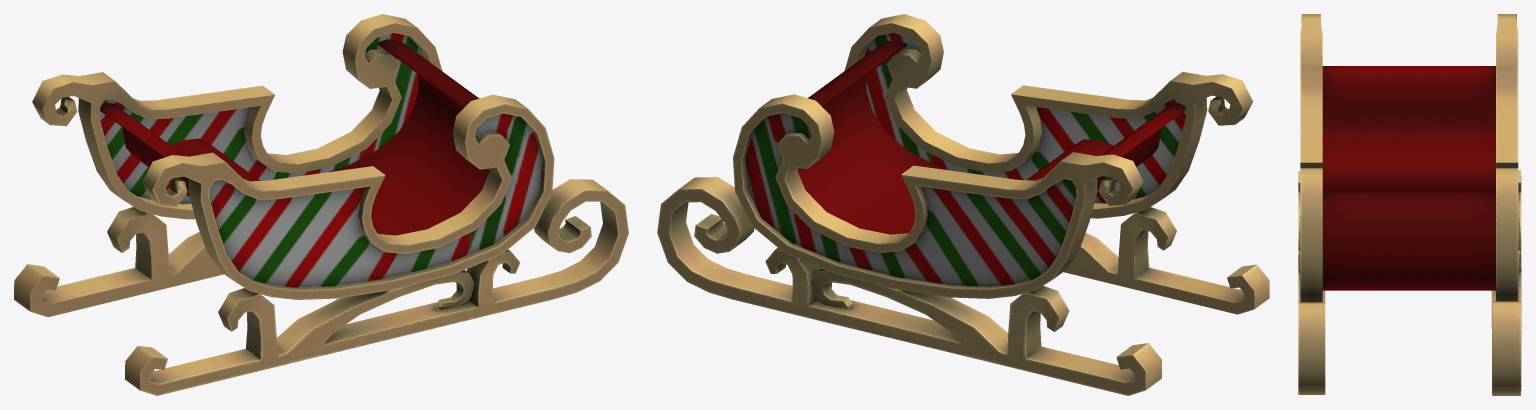
The model's file is Sleigh.gltf.
3 renders of one model, left to right at view 1: azimuth 30°, elevation 25°; view 2: azimuth 150°, elevation 25°; view 3: azimuth 270°, elevation 25°, orthographic. The views are drawn at different scales.
Parts seen in each view (by area): view 1: Sleigh; view 2: Sleigh; view 3: Sleigh.
Boxes of the visible parts, box(x1,y1,x2,y2) form: Sleigh: box(14, 14, 628, 395); Sleigh: box(657, 14, 1269, 395); Sleigh: box(1298, 14, 1521, 395).
Bounding box in the file's own units: 0.3679 × 0.162 × 0.163.
1 material, 1 textured.
